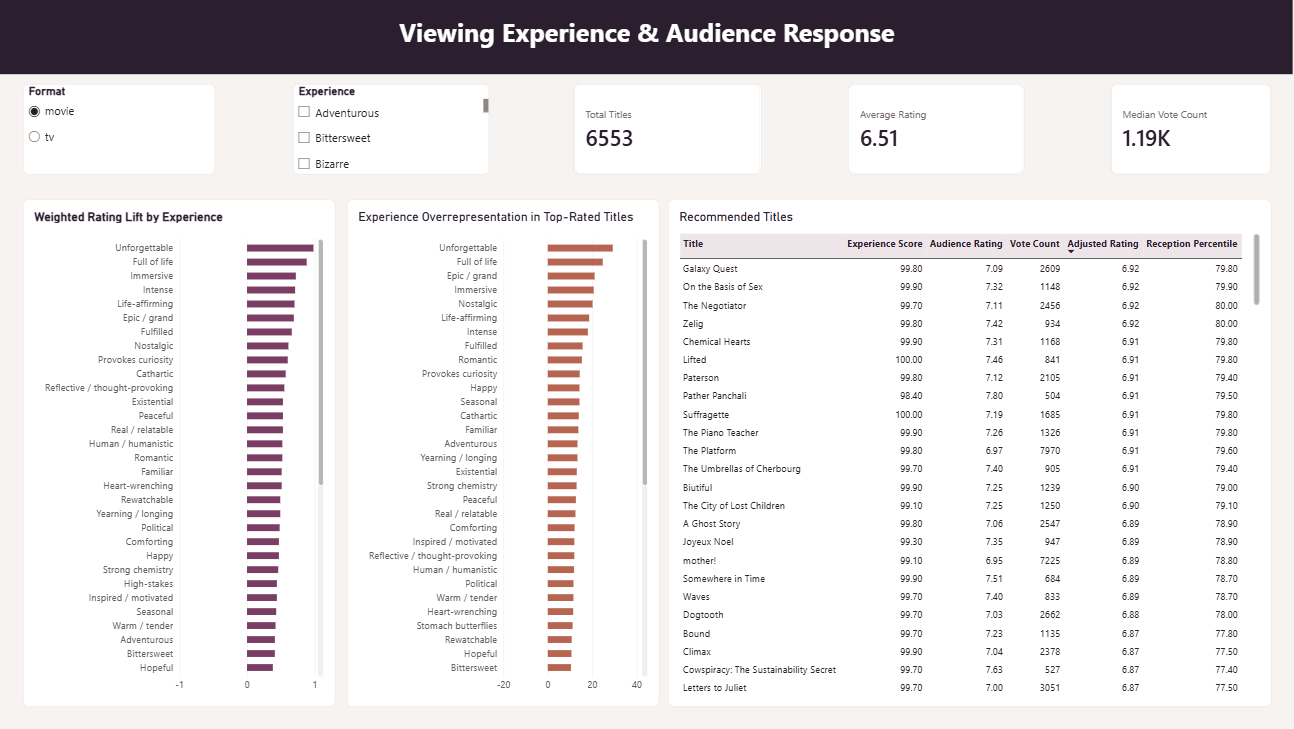

What the dashboard file says about the page in this screenshot:
{"tool":"powerbi","page":{"name":"Audience Response","canvas":[1920,1080],"ordinal":0},"visuals":[{"type":"shape","box":[0,0,1918.2,109.9],"z":0},{"type":"slicer","fields":{"Values":["Media Type.media_type"]},"box":[36.5,124,284.5,134.2],"z":1000},{"type":"slicer","fields":{"Values":["Experience.experience"]},"box":[434.8,124,290.3,134.2],"z":2000},{"type":"cardVisual","fields":{"Data":["Metrics.Total Titles"]},"box":[852,124,278.7,134.2],"z":3000},{"type":"cardVisual","fields":{"Data":["Metrics.Average Rating"]},"box":[1257.6,124,261.2,134.2],"z":4000},{"type":"cardVisual","fields":{"Data":["Metrics.Median Vote Count"]},"box":[1645.7,124,239.3,134.2],"z":5000},{"type":"clusteredBarChart","title":"Weighted Rating Lift by Experience","fields":{"Category":["Experience.experience"],"Y":["Metrics.Weighted Rating Lift"]},"box":[36.5,296.2,462.5,751.4],"z":6000},{"type":"clusteredBarChart","title":"Experience Overrepresentation in Top-Rated Titles","fields":{"Category":["Experience.experience"],"Y":["Metrics.Overrepresentation"]},"box":[514.7,296.6,462.5,751.4],"z":7000},{"type":"tableEx","title":"Recommended Titles","fields":{"Values":["recommendations.title","Metrics.Recommended Experience Score","Metrics.Recommended Audience Rating","Metrics.Recommended Vote Count","Metrics.Recommended Adjusted Rating","Metrics.Recommended Reception Percentile"]},"box":[990.9,296.6,893.8,751.5],"z":8000},{"type":"textbox","box":[36.5,21.9,1848.5,86.1],"z":9000}]}

Visuals, with their boxes in screenshot pixels (x1, y1, x2, y2), scaled from the page's 1920x1080 canvas onto the 1294x729 screenshot:
shape: [0, 0, 1293, 74]
slicer - Media Type.media_type: [25, 84, 216, 174]
slicer - Experience.experience: [293, 84, 489, 174]
cardVisual - Metrics.Total Titles: [574, 84, 762, 174]
cardVisual - Metrics.Average Rating: [848, 84, 1024, 174]
cardVisual - Metrics.Median Vote Count: [1109, 84, 1270, 174]
"Weighted Rating Lift by Experience" clusteredBarChart: [25, 200, 336, 707]
"Experience Overrepresentation in Top-Rated Titles" clusteredBarChart: [347, 200, 659, 707]
"Recommended Titles" tableEx: [668, 200, 1270, 707]
textbox: [25, 15, 1270, 73]
